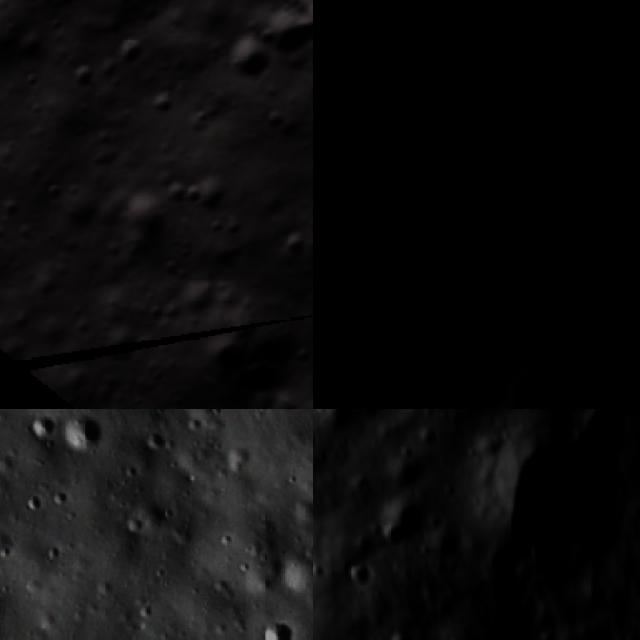crater: (313, 159, 528, 409), (575, 236, 640, 381), (427, 142, 520, 238), (468, 298, 547, 377), (548, 68, 626, 146), (424, 0, 492, 78), (313, 0, 354, 125), (557, 9, 629, 76), (370, 118, 436, 185), (211, 32, 275, 97), (332, 134, 392, 198), (258, 9, 313, 76), (460, 367, 539, 409), (528, 0, 586, 54), (54, 409, 116, 457), (494, 98, 550, 150), (412, 222, 460, 263), (19, 409, 57, 446), (341, 557, 373, 586), (260, 621, 300, 640), (384, 627, 415, 640), (30, 0, 91, 6), (313, 430, 320, 449)
